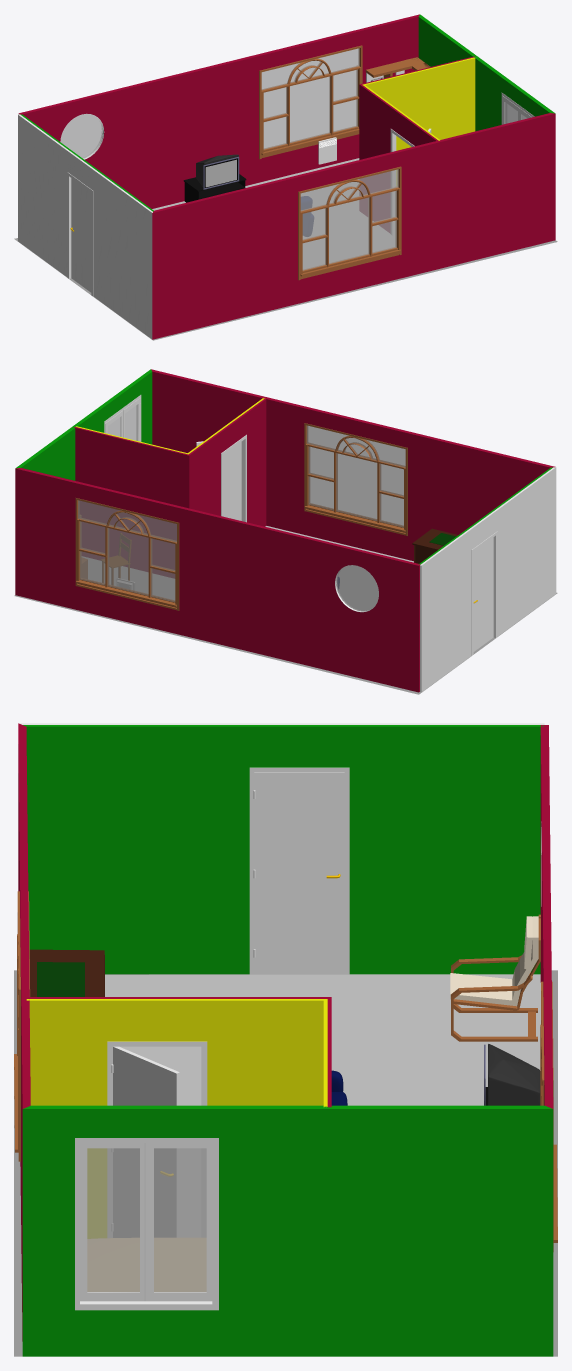
The model's file is Room01.obj.
3 views of the same model, one above another, from view 1: azimuth 30°, elevation 25°; view 2: azimuth 150°, elevation 25°; view 3: azimuth 270°, elevation 25° (orthographic). The views are drawn at different scales.
Parts seen in each view (by area): view 1: wall_3_16, wall_1_5, wall_4_22, sweethome3d_window_pane_170, sweethome3d_window_pane_204, wall_5_28, room_7_38, wall_6_35, wall_2_11, Porte_141, sweethome3d_window_pane_152, ground_1 (+11 smaller); view 2: wall_1_4, wall_3_17, wall_4_22, wall_5_29, sweethome3d_window_pane_204, sweethome3d_window_pane_170, wall_6_35, wall_2_11, room_7_38, Porte_141, sweethome3d_window_pane_152, Porte_148 (+11 smaller); view 3: wall_2_10, wall_4_23, room_7_38, wall_6_34, Porte_141, Porte_148, sweethome3d_window_pane_176, sweethome3d_window_pane_1_183, Matelas_136, Tour_Fenetre_187, Fenetre_1_181, ground_1 (+16 smaller).
Part boxes in pixels (box(x1,y1,x2,y2)): wall_3_16: box(152, 113, 555, 339); wall_1_5: box(23, 17, 418, 208); wall_4_22: box(18, 115, 152, 339); sweethome3d_window_pane_170: box(300, 169, 398, 270); sweethome3d_window_pane_204: box(261, 48, 359, 149); wall_5_28: box(365, 58, 475, 185); room_7_38: box(152, 158, 394, 268); wall_6_35: box(359, 84, 435, 232); wall_2_11: box(418, 17, 549, 131); Porte_141: box(71, 178, 91, 292); sweethome3d_window_pane_152: box(60, 114, 102, 158); ground_1: box(14, 238, 557, 340); wall_1_4: box(15, 468, 419, 692); wall_3_17: box(152, 371, 549, 561); wall_4_22: box(420, 467, 556, 691); wall_5_29: box(75, 428, 189, 578); sweethome3d_window_pane_204: box(78, 500, 176, 602); sweethome3d_window_pane_170: box(306, 425, 405, 527); wall_6_35: box(189, 399, 266, 526); wall_2_11: box(21, 372, 152, 480); room_7_38: box(82, 526, 413, 610); Porte_141: box(473, 537, 493, 651); sweethome3d_window_pane_152: box(336, 565, 378, 610); Porte_148: box(196, 441, 241, 520); wall_2_10: box(22, 1109, 553, 1356); wall_4_23: box(26, 726, 540, 974); room_7_38: box(105, 974, 540, 1237); wall_6_34: box(29, 1000, 323, 1238); Porte_141: box(254, 772, 344, 974); Porte_148: box(113, 1046, 179, 1237); sweethome3d_window_pane_176: box(154, 1148, 206, 1292); sweethome3d_window_pane_1_183: box(87, 1148, 139, 1292); Matelas_136: box(87, 1238, 206, 1291); Tour_Fenetre_187: box(75, 1138, 218, 1310); Fenetre_1_181: box(141, 1143, 212, 1301); ground_1: box(14, 970, 557, 1356).
Size of the model in its own units: 837 by 250 by 498.
